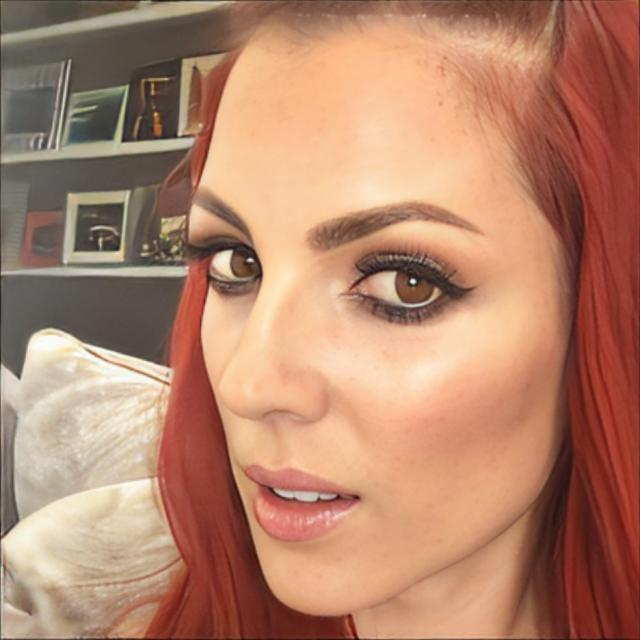neutral: (184, 6, 568, 620)
